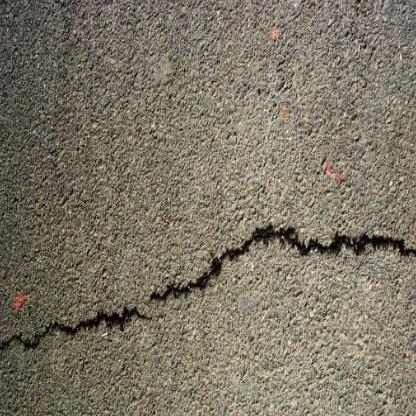Cracks: (0, 220, 416, 360)
